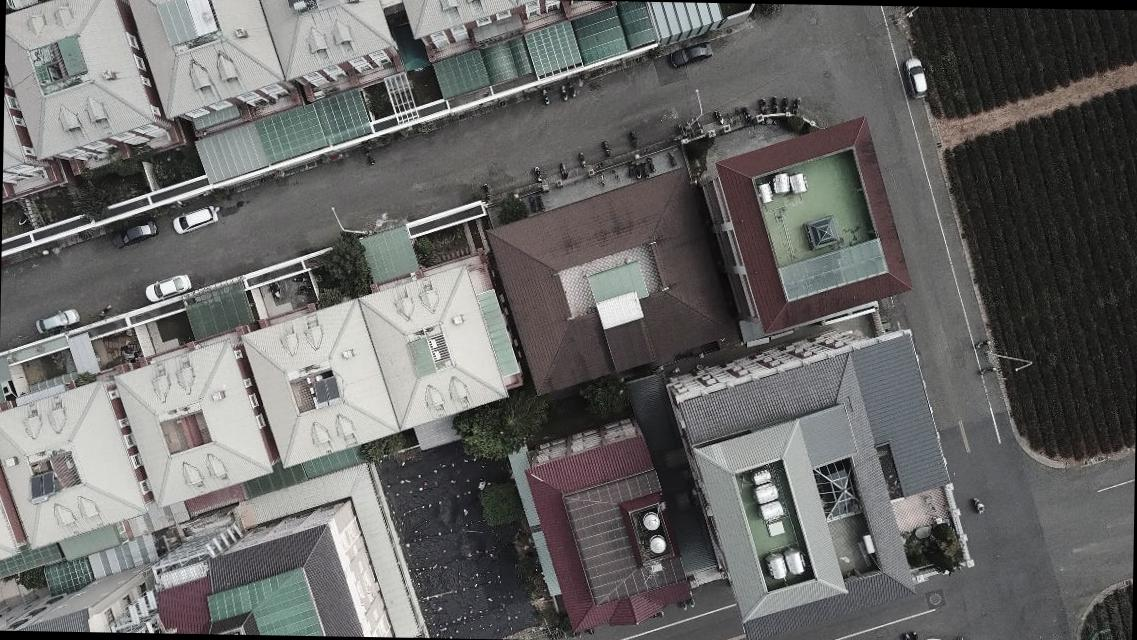vehicle: (143, 272, 193, 304), (109, 217, 159, 248), (171, 203, 219, 235), (35, 306, 79, 334), (668, 40, 712, 68), (902, 57, 927, 98)
